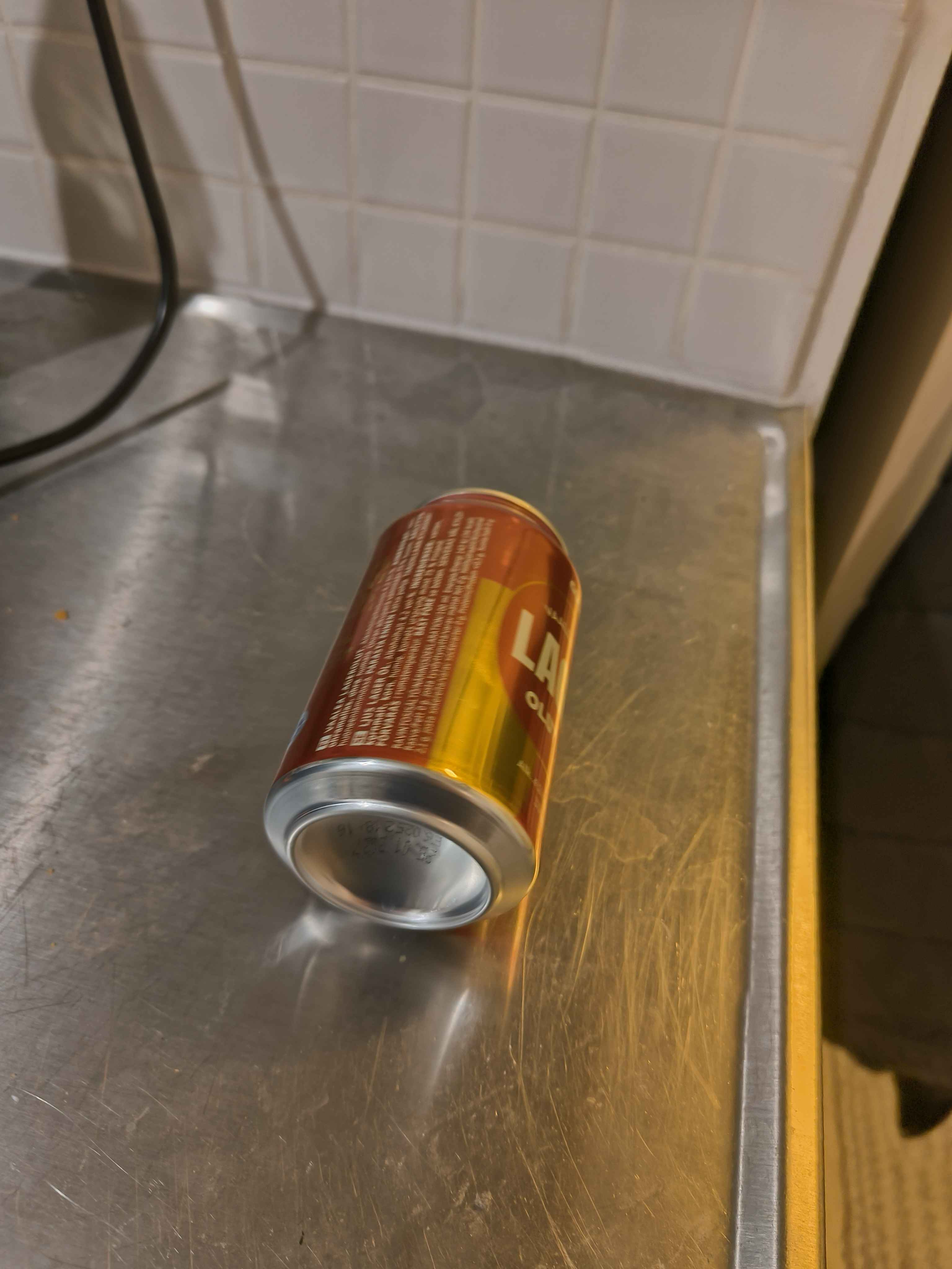Pantburk: (264, 487, 581, 930)
